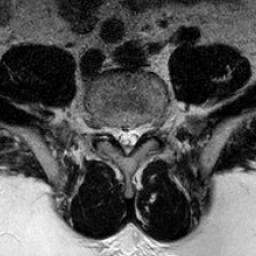CCS_normal: (123, 117, 133, 166)
LFS_normal: (143, 110, 152, 141)
LLS_normal: (133, 115, 143, 151)
RFS_stenosis: (103, 111, 114, 143)
RLS_normal: (114, 115, 123, 156)
